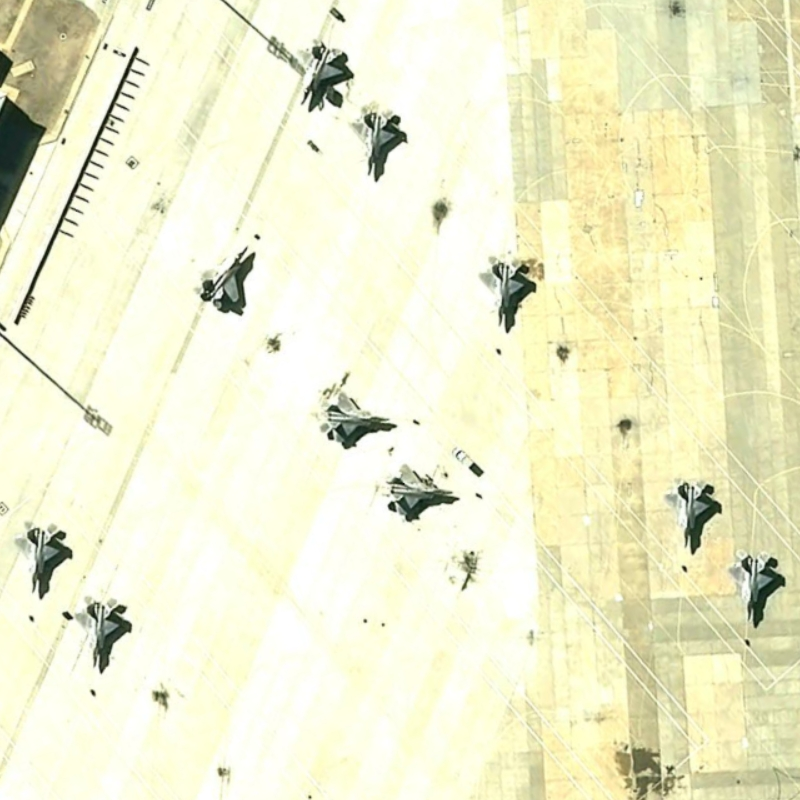A15: (475, 252, 537, 329), (347, 106, 410, 181), (379, 461, 458, 520), (314, 390, 394, 447), (11, 517, 69, 595), (658, 476, 718, 551), (72, 591, 128, 671), (291, 33, 348, 110), (195, 242, 253, 316), (724, 546, 780, 622)
